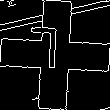L_S: (38, 29, 72, 81)
